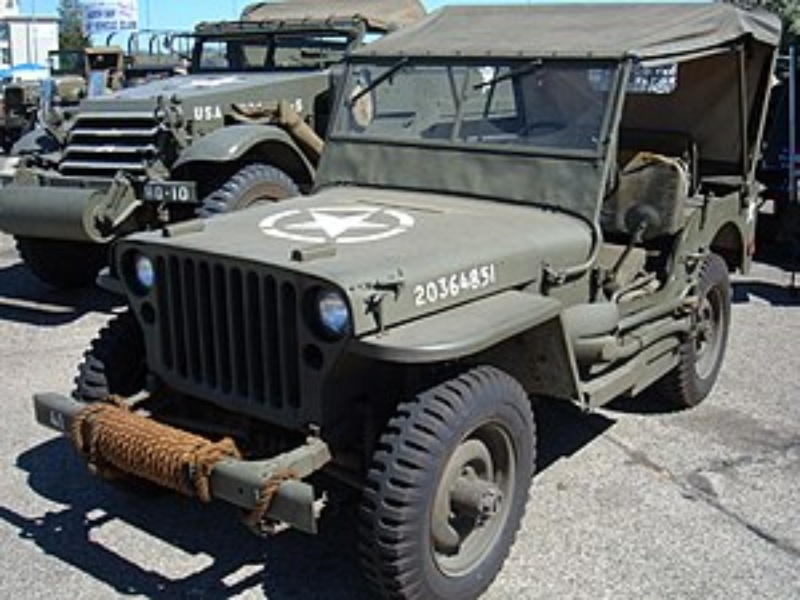jeep: (38, 1, 788, 600)
